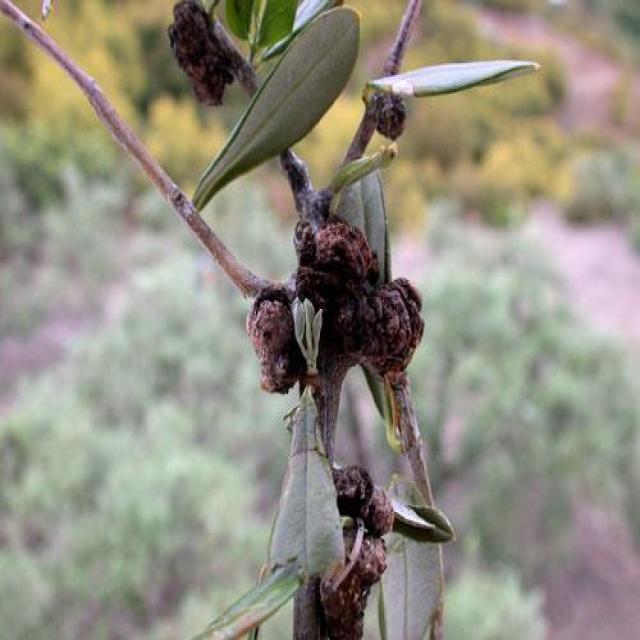Tuberculosis: (293, 215, 422, 399), (321, 468, 393, 638), (168, 0, 242, 104), (246, 283, 307, 393), (364, 84, 406, 140)
